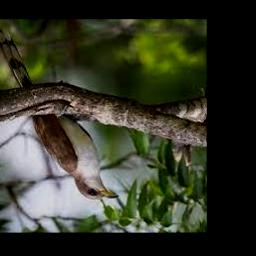Cuckoo: (0, 28, 119, 200)
